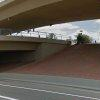Bridge: (2, 0, 79, 55)
